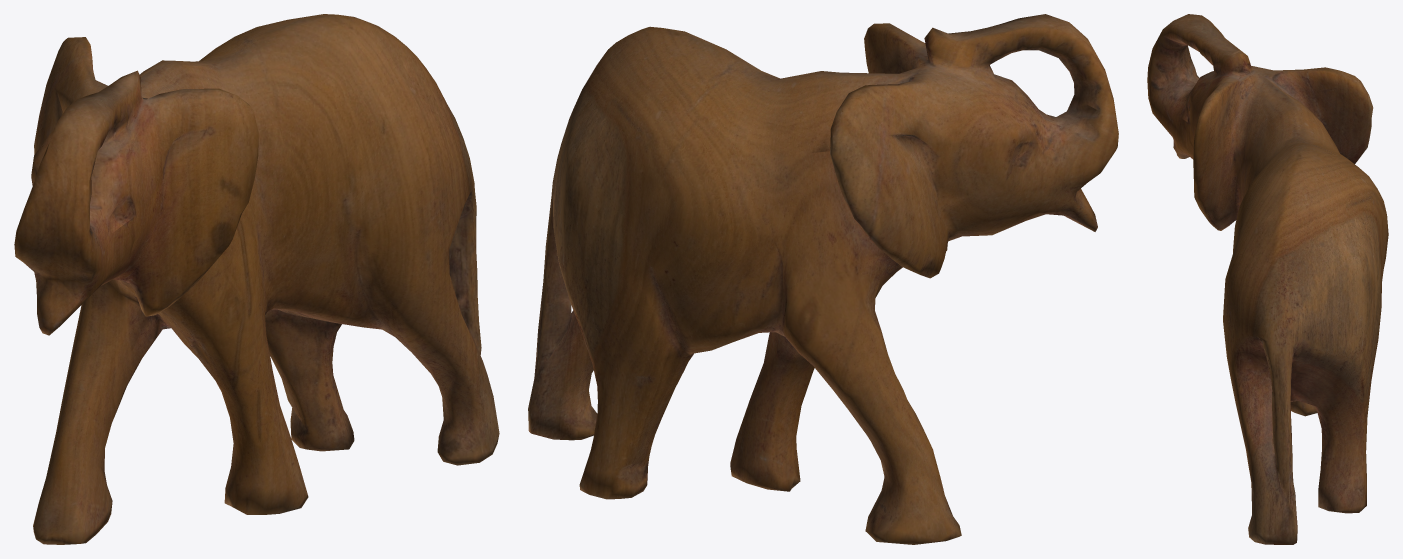
Rendered from carved_wooden_elephant_1k.gltf.
3 renders of one model, left to right at view 1: azimuth 30°, elevation 25°; view 2: azimuth 150°, elevation 25°; view 3: azimuth 270°, elevation 25°, orthographic. The views are drawn at different scales.
Parts seen in each view (by area): view 1: carved_wooden_elephant; view 2: carved_wooden_elephant; view 3: carved_wooden_elephant.
Part boxes in pixels (<box>): carved_wooden_elephant: <box>14,14,499,544</box>; carved_wooden_elephant: <box>528,14,1118,544</box>; carved_wooden_elephant: <box>1147,14,1388,544</box>.
Size of the model in its own units: 0.1092 by 0.0961 by 0.0576.
Materials: 1 (1 with a texture image).
